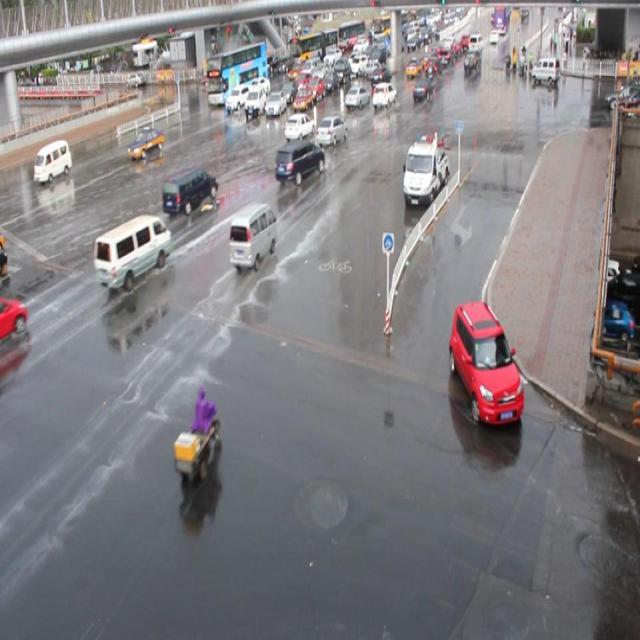bus: (401, 136, 448, 204)
car: (447, 300, 524, 424), (161, 166, 218, 216), (274, 139, 324, 185), (126, 125, 165, 157), (316, 115, 348, 146), (284, 112, 315, 140), (225, 83, 252, 111), (371, 81, 396, 109), (344, 84, 370, 110), (264, 91, 286, 116), (292, 86, 312, 112), (411, 78, 434, 100), (246, 76, 270, 96), (279, 79, 298, 102), (305, 76, 324, 99), (292, 71, 310, 93)
truck: (94, 213, 172, 291), (227, 201, 277, 270), (33, 138, 72, 182), (247, 84, 269, 115)
van: (205, 41, 268, 105)
